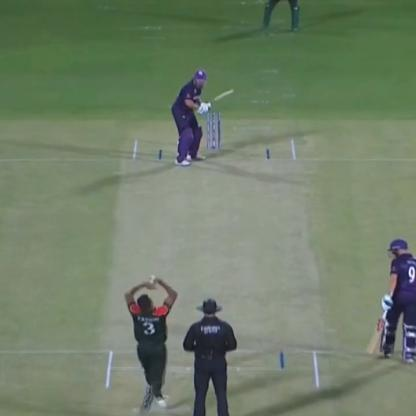ball: (146, 278, 158, 288), (147, 272, 157, 278)
pitch: (97, 131, 327, 405)
